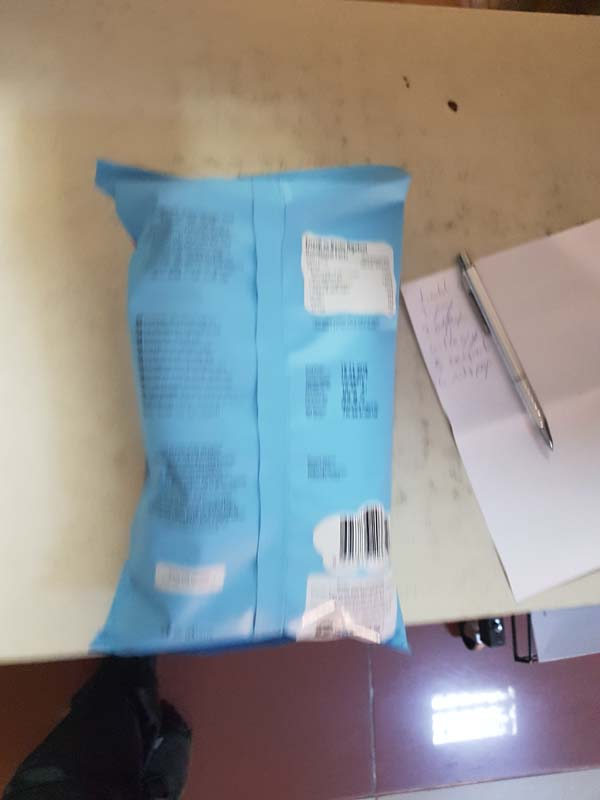popcorn: (93, 153, 420, 651)
